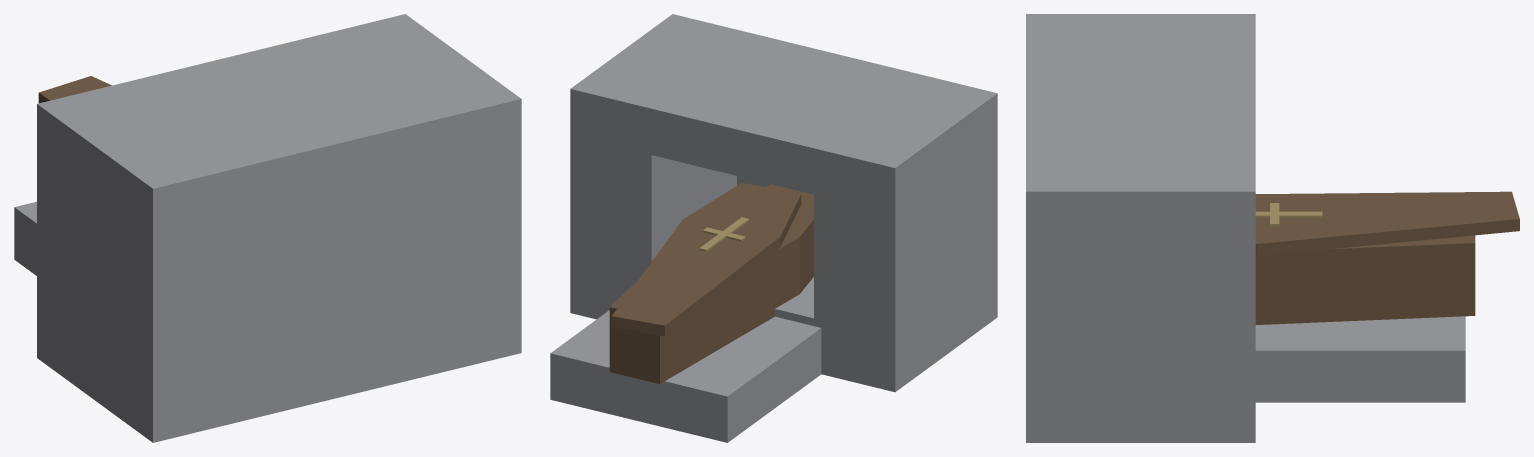
The model's file is CoffinNiche.fbx.
3 views of the same model, side by side, from view 1: azimuth 30°, elevation 25°; view 2: azimuth 150°, elevation 25°; view 3: azimuth 270°, elevation 25° (orthographic). The views are drawn at different scales.
Parts seen in each view (by area): view 1: CoffinNiche; view 2: CoffinNiche; view 3: CoffinNiche.
Part boxes in pixels (x1,y1,x2,y2): CoffinNiche: (14,14,521,442); CoffinNiche: (550,14,997,442); CoffinNiche: (1026,14,1519,442).
Size of the model in its own units: 2.2 by 1.45 by 2.58.
